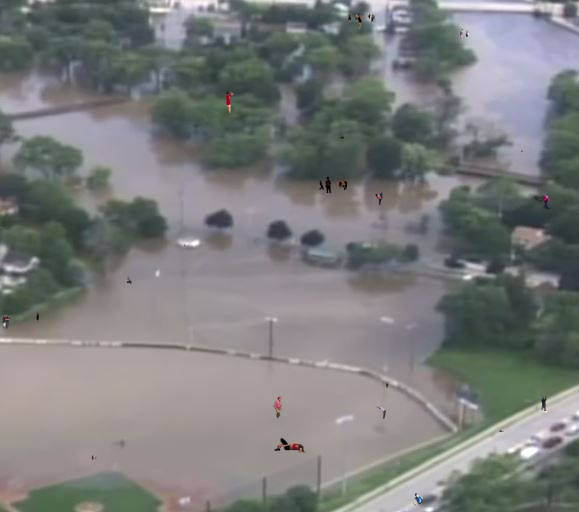Human: (274, 438, 307, 453), (527, 193, 557, 209), (346, 13, 376, 29), (319, 176, 347, 193), (273, 396, 283, 419), (225, 91, 234, 113), (1, 314, 11, 329), (413, 493, 424, 506), (375, 406, 386, 419), (541, 396, 548, 413), (375, 192, 383, 205), (460, 29, 469, 40), (34, 312, 39, 322), (126, 276, 132, 284), (115, 301, 121, 306), (91, 455, 97, 460), (385, 382, 389, 389), (340, 136, 344, 141), (183, 244, 189, 247), (499, 430, 505, 432), (0, 227, 3, 230), (409, 175, 411, 179), (521, 149, 523, 152)
